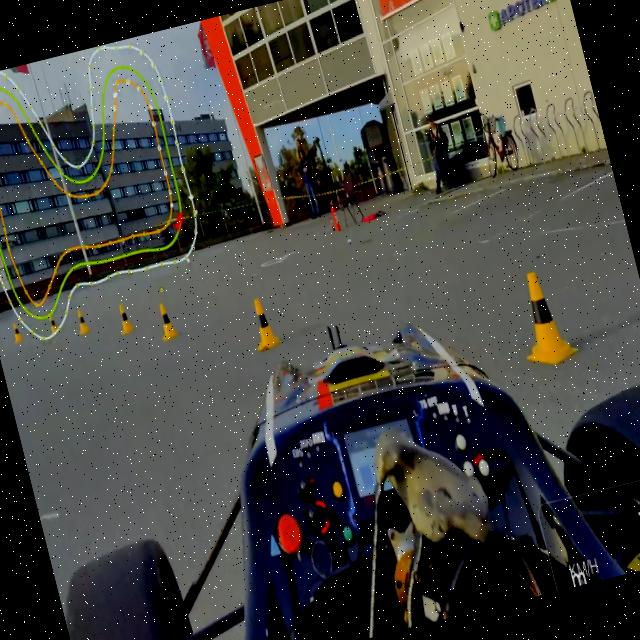yellow_cone: (506, 266, 580, 371), (247, 296, 280, 350), (154, 300, 178, 341), (114, 302, 134, 336), (75, 308, 90, 335), (10, 319, 24, 344), (46, 311, 60, 336)
